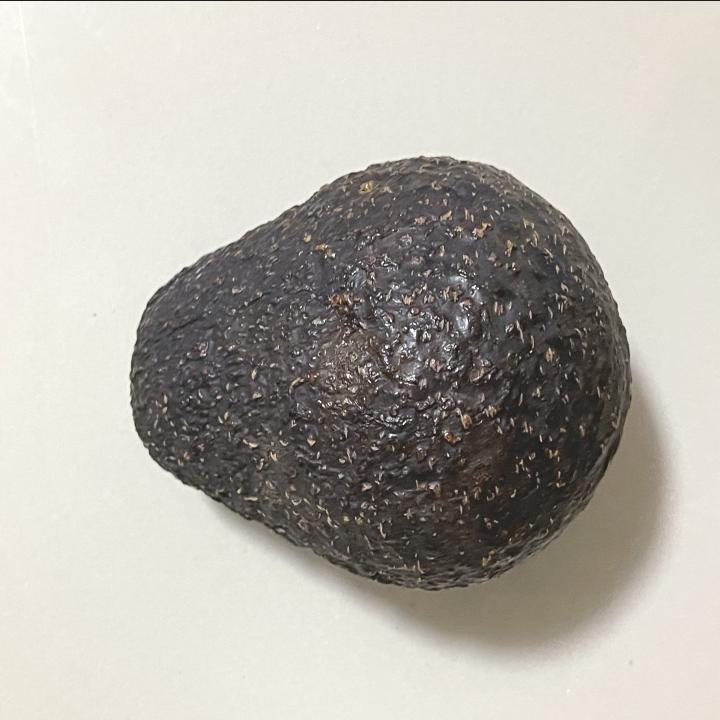Level3: (122, 146, 638, 601)
